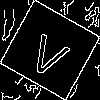V: (25, 24, 75, 81)
